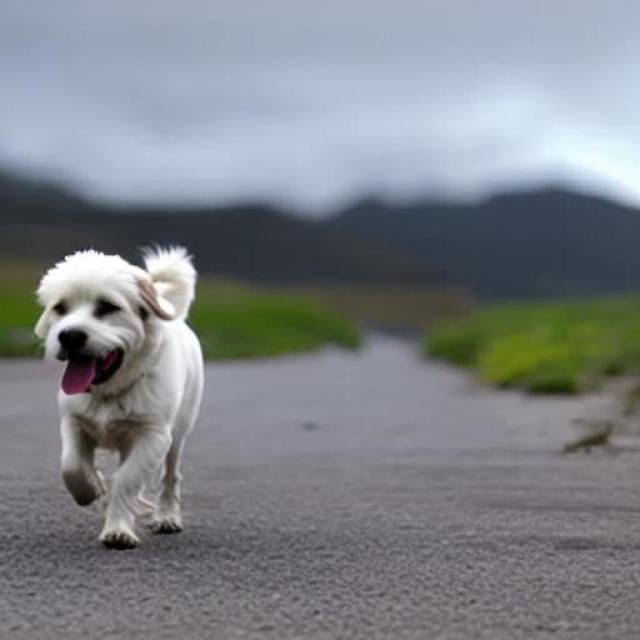Dog: (33, 242, 206, 551)
